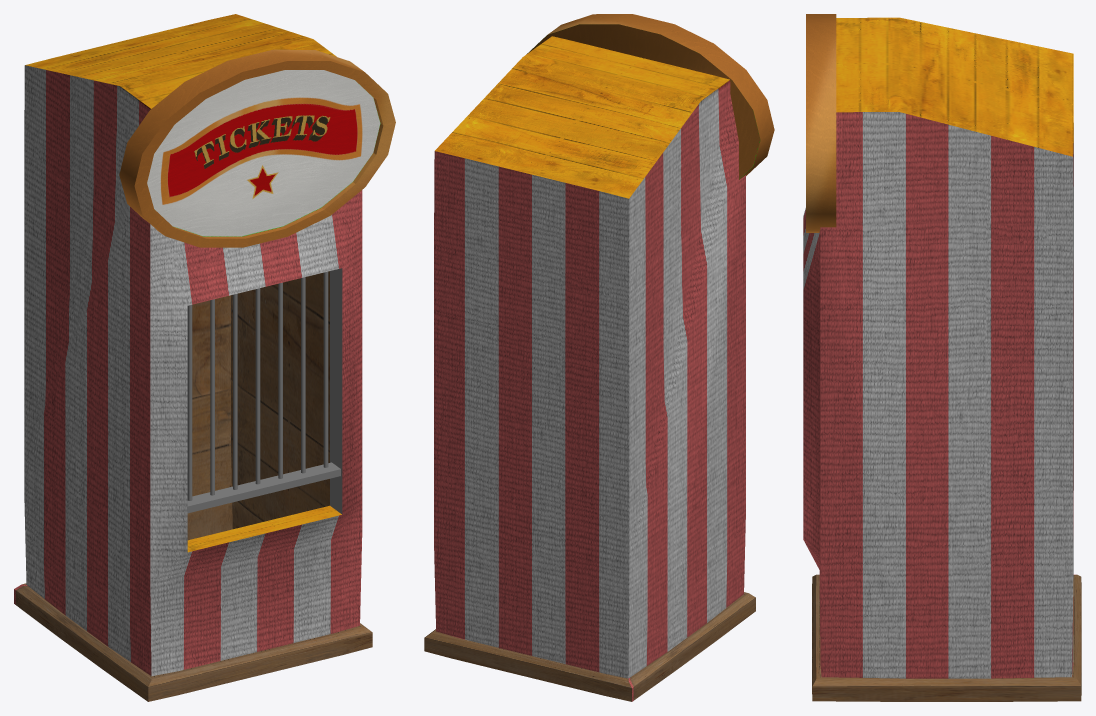
File: TicketBooth.fbx
3 views of the same model, side by side, from view 1: azimuth 30°, elevation 25°; view 2: azimuth 150°, elevation 25°; view 3: azimuth 270°, elevation 25° (orthographic). The views are drawn at different scales.
Parts seen in each view (by area): view 1: TicketBooth, Signpost, Cylinder001, Box001; view 2: TicketBooth, Signpost; view 3: TicketBooth, Signpost.
Part boxes in pixels (x1,y1,x2,y2): TicketBooth: [14, 14, 372, 701]; Signpost: [119, 49, 395, 247]; Cylinder001: [187, 271, 328, 500]; Box001: [187, 462, 340, 513]; TicketBooth: [424, 36, 755, 701]; Signpost: [526, 14, 774, 179]; TicketBooth: [803, 17, 1081, 701]; Signpost: [806, 14, 836, 232].
Bounding box in the file's own units: 83.77 × 187 × 77.04.
3 materials, 2 textured.
